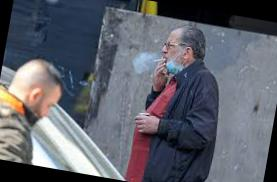mask_weared_incorrect: (29, 84, 67, 128), (155, 38, 190, 75)
